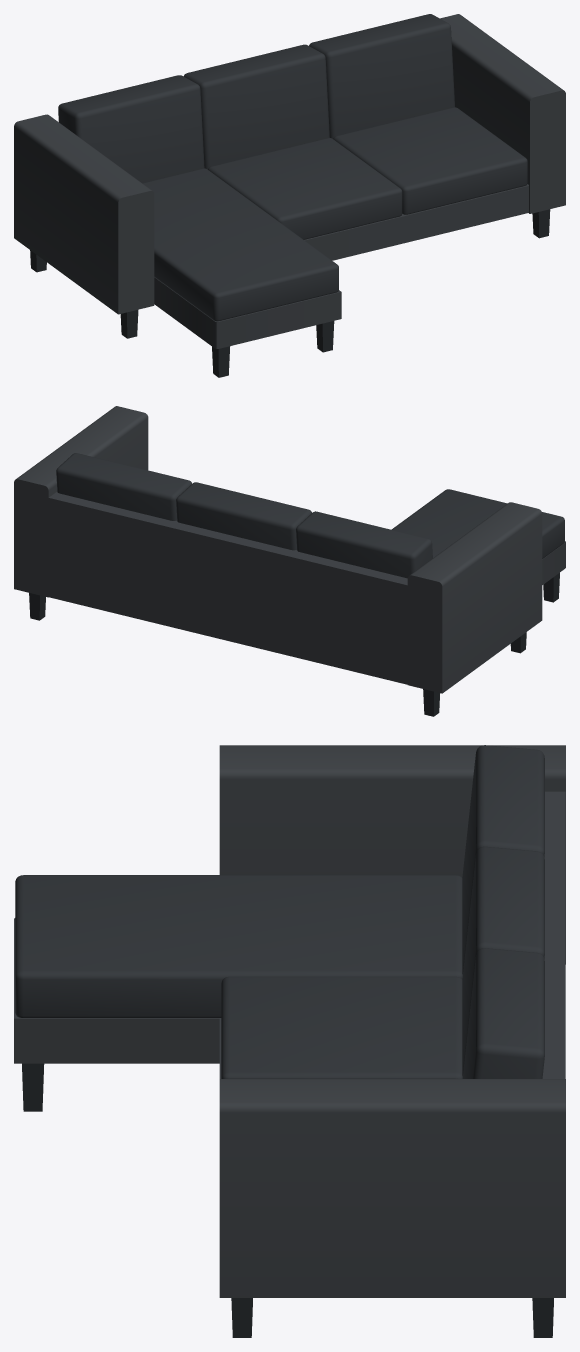
The model's file is Sofa8_C1.fbx.
The picture shows the model from 3 angles, top to bottom: view 1: azimuth 30°, elevation 25°; view 2: azimuth 150°, elevation 25°; view 3: azimuth 270°, elevation 25°; orthographic projection. The views are drawn at different scales.
Visible parts, largest first — view 1: Sofa8_C1; view 2: Sofa8_C1; view 3: Sofa8_C1.
Boxes of the visible parts, left/top/right/bottom form: Sofa8_C1: left=14, top=14, right=565, bottom=377; Sofa8_C1: left=14, top=406, right=565, bottom=716; Sofa8_C1: left=14, top=745, right=565, bottom=1337.
Bounding box in the file's own units: 248 × 86.76 × 159.
